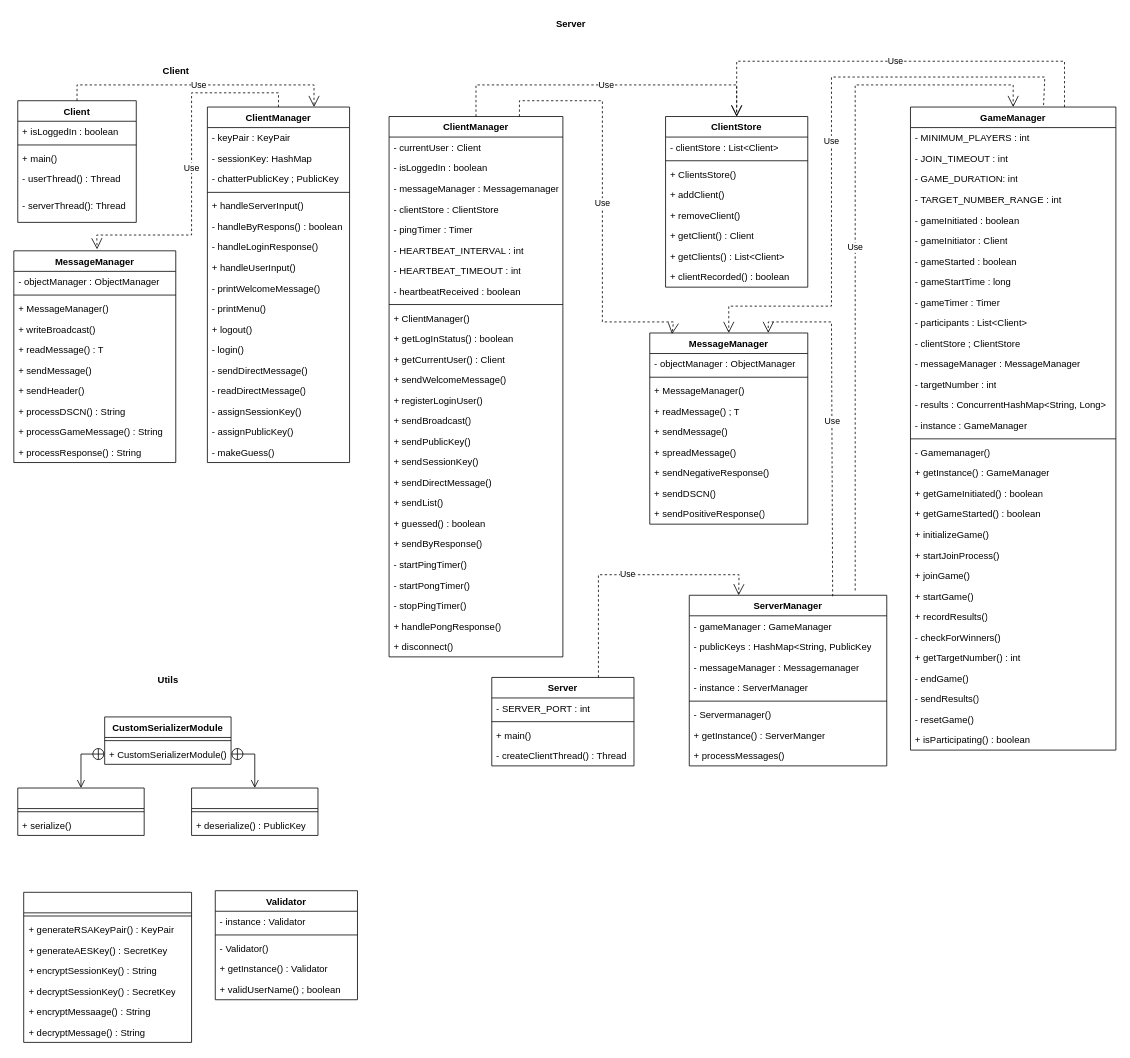
Image size: 1130x1058. Some labels were removed from this diagram. The shapes that lost their labels are listed below. From the top down, each one's box as (x1, y1, x2, y2) in pixels, then its label:
(17, 787, 144, 835): PublicKeySerializer
(191, 787, 318, 835): PublicKeyDeserializer
(23, 892, 192, 1042): EncryptionUtils
